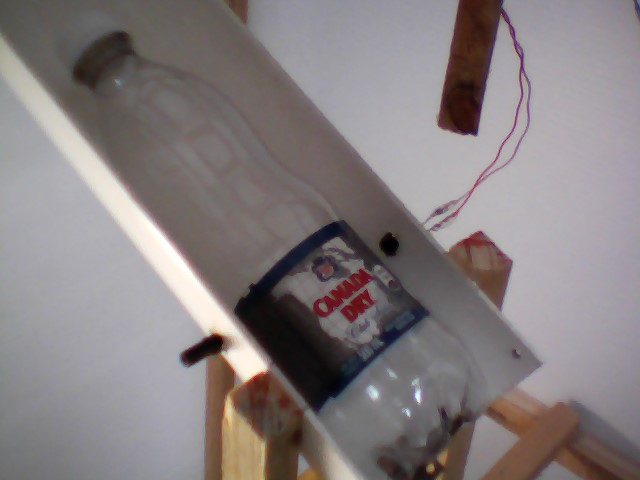plastico: (48, 2, 496, 479)
